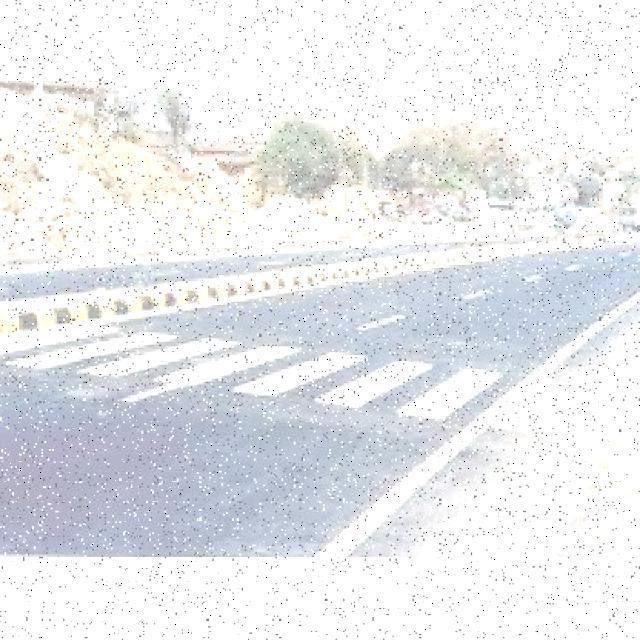Pedestrian crosswalk: (3, 316, 552, 442)
